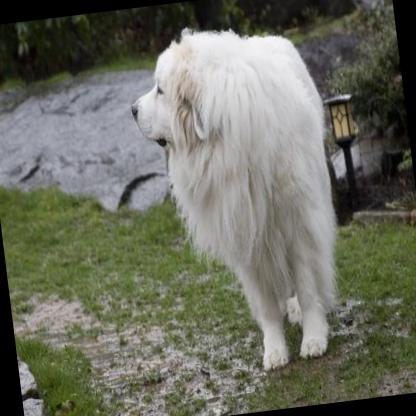Great_Pyrenees: (119, 9, 356, 384)
